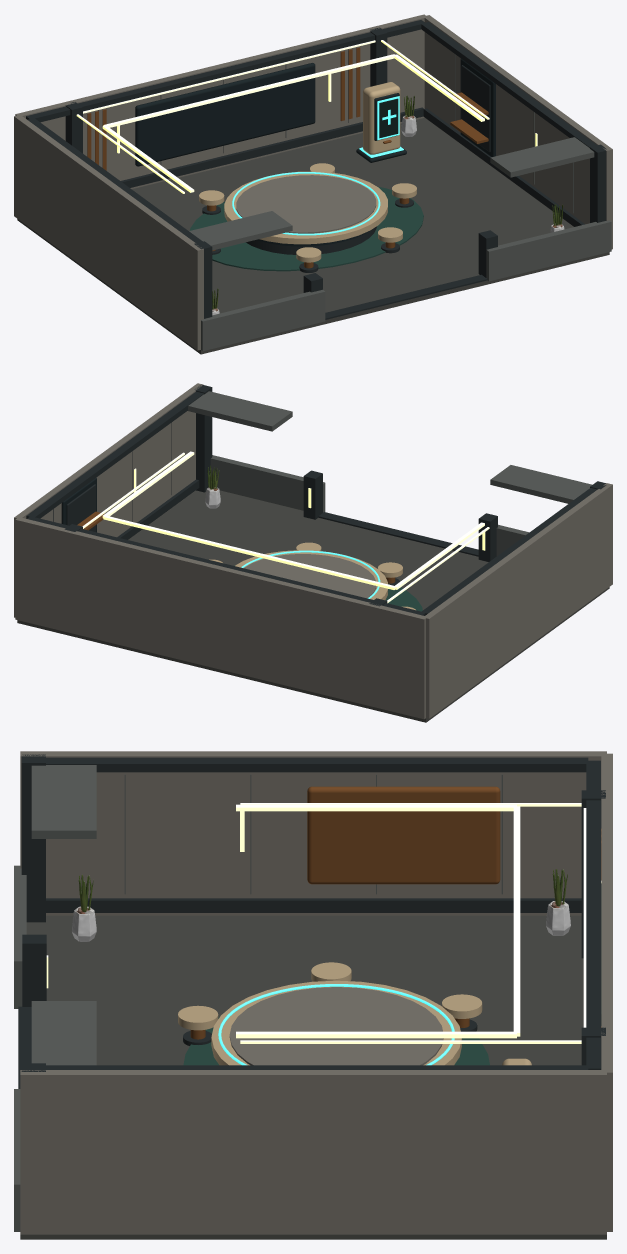
File: project-room.glb
3 renders of one model, top to bottom at view 1: azimuth 30°, elevation 25°; view 2: azimuth 150°, elevation 25°; view 3: azimuth 270°, elevation 25°, orthographic. The views are drawn at different scales.
Parts seen in each view (by area): view 1: Ground_ProjectRoom, Wall_Left, Wall_Back, Project_Screen_Frame, Wall_Right, Collaboration_Table_Inset, Collaboration_Rug, Entry_Wall_Right, Entry_Wall_Left, Ceiling_Trim_Back, Baseboard_Back, Collaboration_Table_Top (+22 smaller); view 2: Wall_Back, Wall_Left, Ground_ProjectRoom, Wall_Right, Entry_Wall_Right, Collaboration_Table_Inset, Ceiling_Front_Right, Ceiling_Trim_Right, Ceiling_Front_Left, Ceiling_Trim_Back, Ceiling_Recess_Back, Ceiling_Trim_Left (+12 smaller); view 3: Wall_Right, Ground_ProjectRoom, Wall_Left, Idea_Board_Frame, Collaboration_Table_Inset, Ceiling_Trim_Left, Baseboard_Left, Ceiling_Front_Left, Wall_Back, Ceiling_Trim_Back, Ceiling_Front_Right, Collaboration_Table_Top (+20 smaller).
Part boxes in pixels (<box>): Ground_ProjectRoom: <box>17,117,609,354</box>; Wall_Left: <box>14,115,203,350</box>; Wall_Back: <box>15,14,427,189</box>; Project_Screen_Frame: <box>135,63,315,166</box>; Wall_Right: <box>424,15,612,249</box>; Collaboration_Table_Inset: <box>236,175,376,233</box>; Collaboration_Rug: <box>190,186,423,271</box>; Entry_Wall_Right: <box>486,220,611,281</box>; Entry_Wall_Left: <box>201,289,325,350</box>; Ceiling_Trim_Back: <box>26,20,425,122</box>; Baseboard_Back: <box>121,107,423,187</box>; Collaboration_Table_Top: <box>224,171,387,244</box>; Wall_Back: <box>15,517,427,719</box>; Wall_Left: <box>425,483,612,718</box>; Ground_ProjectRoom: <box>17,490,609,722</box>; Wall_Right: <box>14,383,203,617</box>; Entry_Wall_Right: <box>210,455,325,512</box>; Collaboration_Table_Inset: <box>244,554,376,598</box>; Ceiling_Front_Right: <box>188,391,292,431</box>; Ceiling_Trim_Right: <box>26,391,203,518</box>; Ceiling_Front_Left: <box>490,465,592,503</box>; Ceiling_Trim_Back: <box>27,517,425,615</box>; Ceiling_Recess_Back: <box>103,516,395,589</box>; Ceiling_Trim_Left: <box>421,488,597,615</box>; Wall_Right: <box>20,1070,606,1234</box>; Ground_ProjectRoom: <box>20,915,606,1239</box>; Wall_Left: <box>20,751,606,915</box>; Idea_Board_Frame: <box>307,786,500,884</box>; Collaboration_Table_Inset: <box>229,987,443,1065</box>; Ceiling_Trim_Left: <box>46,757,588,772</box>; Baseboard_Left: <box>46,898,581,912</box>; Ceiling_Front_Left: <box>31,765,96,838</box>; Wall_Back: <box>601,753,612,1231</box>; Ceiling_Trim_Back: <box>586,760,600,1069</box>; Ceiling_Front_Right: <box>31,1001,96,1065</box>; Collaboration_Table_Top: <box>211,980,461,1065</box>.
Bounding box in the file's own units: 18.28 × 4.4 × 14.29.
Materials: 12 (1 with a texture image).
